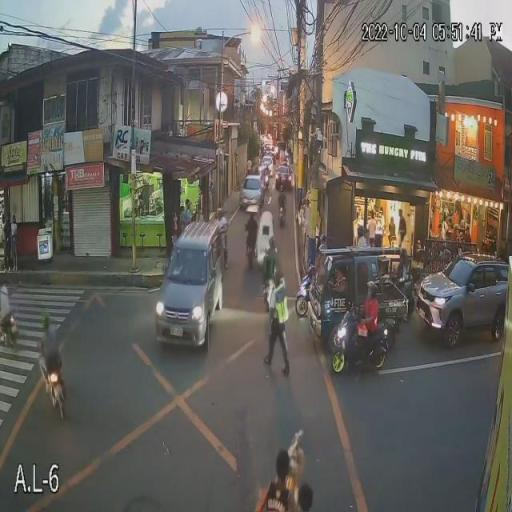helmet: (366, 282, 378, 298), (40, 312, 50, 328), (269, 237, 276, 249), (318, 244, 328, 250), (280, 186, 284, 191)
motorcycle: (333, 308, 395, 372), (40, 364, 68, 420), (0, 316, 20, 352), (296, 266, 310, 316), (262, 256, 274, 308), (278, 205, 286, 226)
rider: (356, 297, 378, 366), (39, 330, 60, 390), (266, 249, 279, 274), (0, 287, 9, 321), (279, 193, 285, 216)
